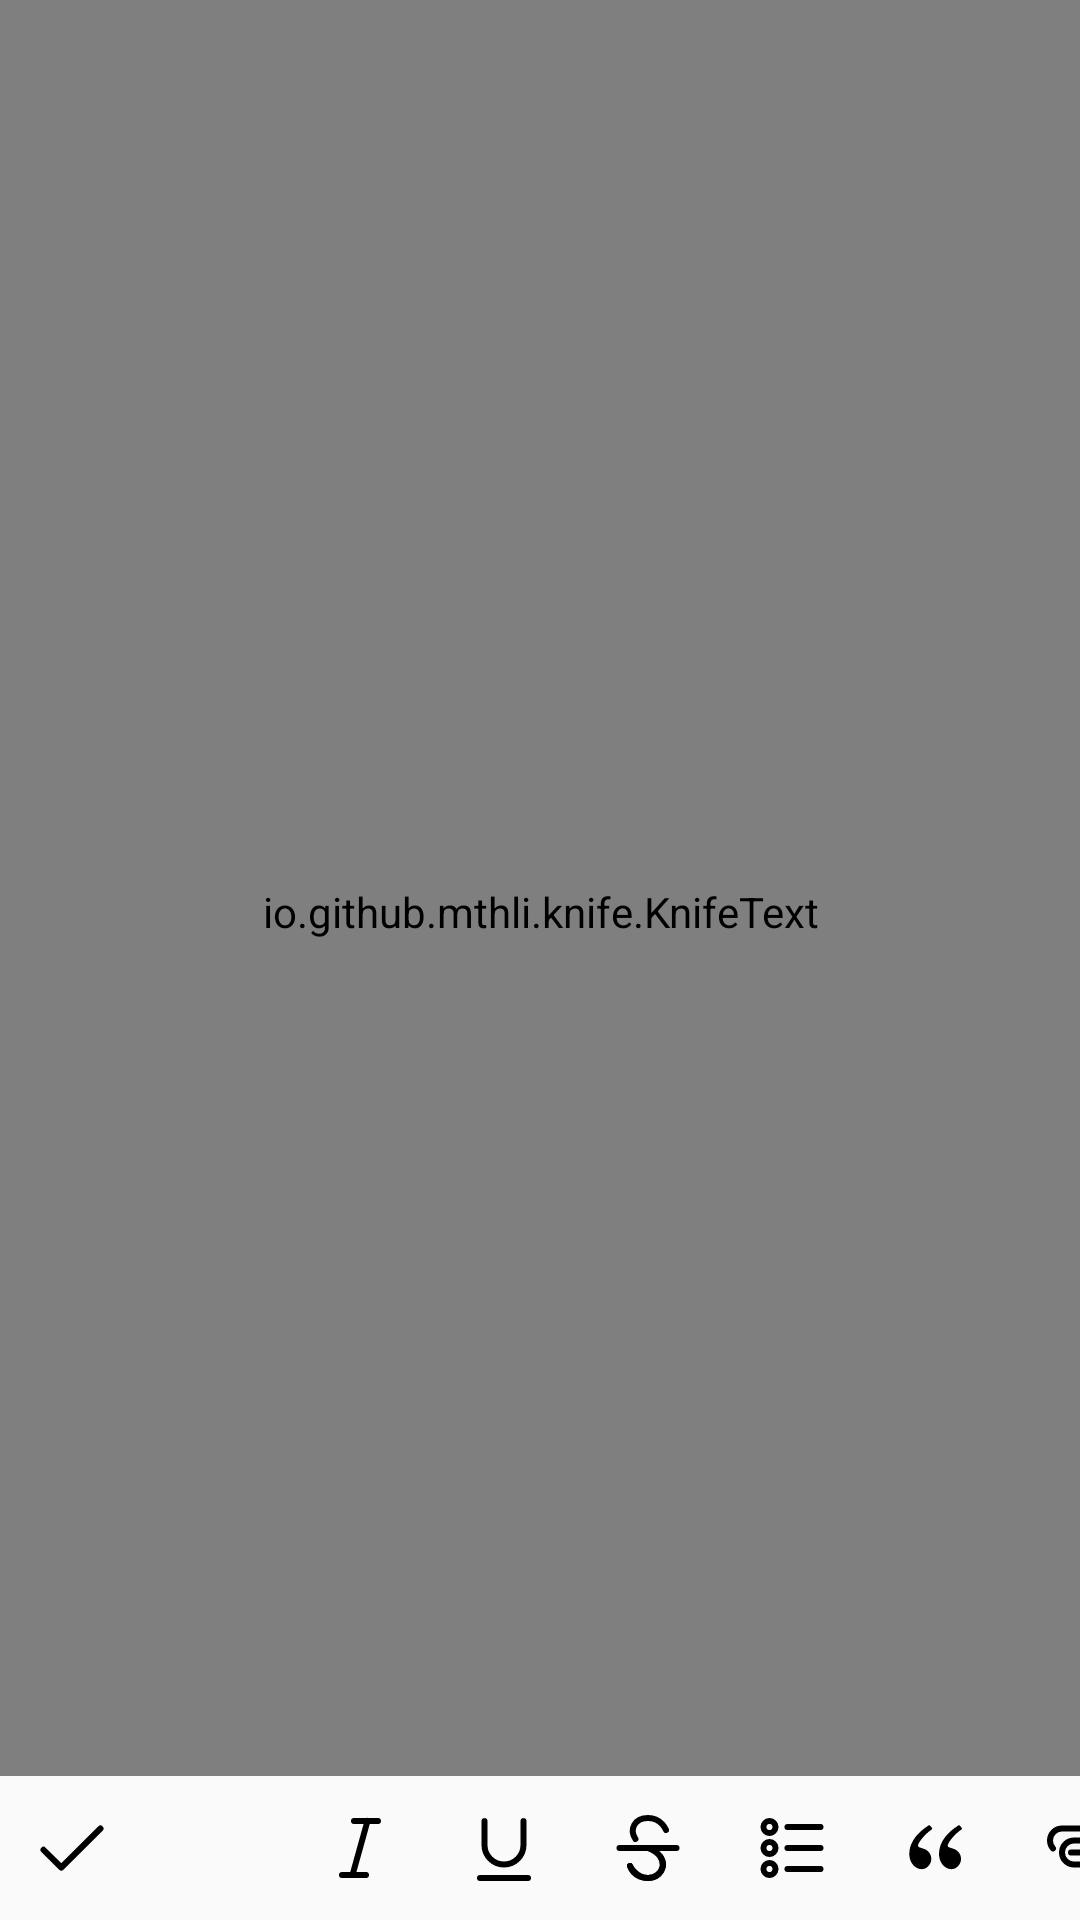

Screen size 1080px x 1920px. Icon name, then its box in pixels as (x1, y1, x2, y2):
format italic: (339, 1817, 381, 1878)
format list: (760, 1818, 824, 1878)
format quote: (909, 1825, 962, 1870)
format strikethrough: (616, 1815, 680, 1881)
format underline: (477, 1818, 531, 1881)
